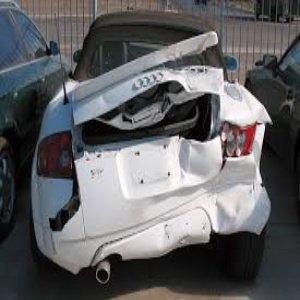bonnet: (100, 68, 239, 112)
bumper: (32, 197, 272, 252)
tail_lights: (214, 118, 265, 161)
